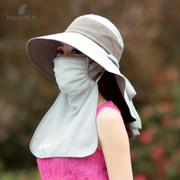OK: (54, 43, 99, 94)
